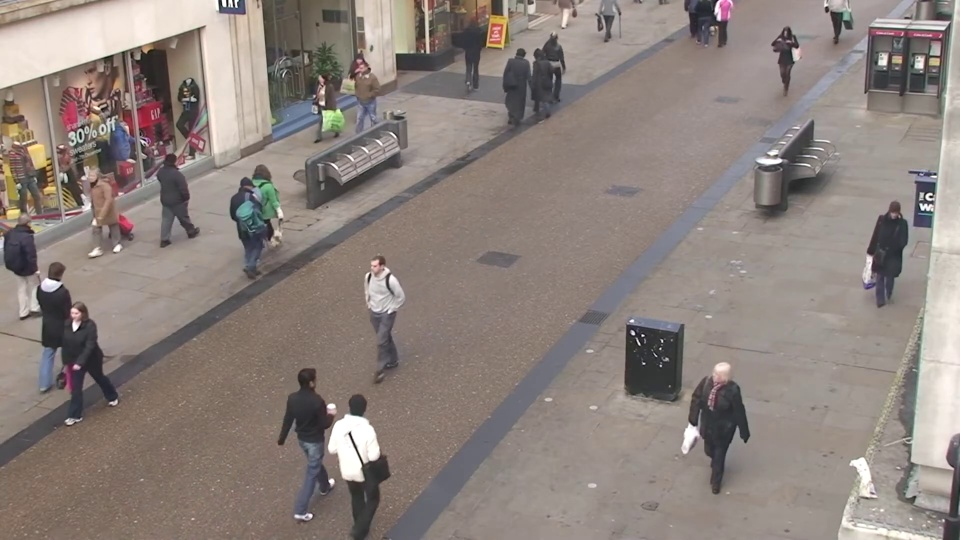pedestrian: (342, 376, 400, 536), (39, 298, 104, 440), (293, 349, 350, 503), (685, 358, 740, 517), (46, 249, 105, 378), (13, 205, 71, 322), (346, 258, 393, 391), (862, 202, 912, 323), (65, 168, 114, 275), (238, 168, 280, 276), (164, 145, 205, 246), (255, 154, 294, 258), (304, 69, 334, 151), (343, 64, 373, 144), (344, 53, 373, 130), (767, 25, 796, 98), (510, 43, 536, 119), (523, 43, 549, 118), (546, 27, 570, 99), (460, 13, 484, 80)
